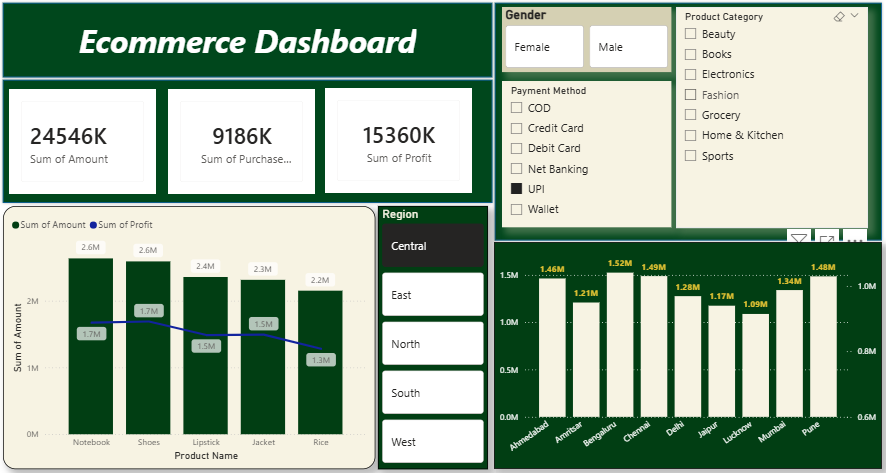

The dashboard page shown, as its layout file describes it:
{"tool":"powerbi","page":{"name":"Page 1","canvas":[1280,720],"ordinal":0},"visuals":[{"type":"shape","box":[10.3,2.1,707.2,114.4],"z":0},{"type":"shape","box":[712.4,1,560.8,347.4],"z":1000},{"type":"shape","box":[10,111.3,707.3,184],"z":2000},{"type":"slicer","fields":{"Values":["Ecommerce Sales Data.Payment Method"]},"box":[726.8,116.5,242.3,209.3],"z":3000},{"type":"cardVisual","fields":{"Data":["Sum(Ecommerce Sales Data.Amount)"]},"box":[22.9,128.6,210,150],"z":4000},{"type":"advancedSlicerVisual","fields":{"Values":["Ecommerce Sales Data.Gender"]},"box":[726.8,11.3,242.3,92.8],"z":5000},{"type":"slicer","fields":{"Values":["Ecommerce Sales Data.Product Category"]},"box":[975.7,11.4,274.3,315.7],"z":6000},{"type":"cardVisual","fields":{"Data":["Sum(Ecommerce Sales Data.Purchase Cost)"]},"box":[250,128.6,210,150],"z":7000},{"type":"cardVisual","fields":{"Data":["Sum(Ecommerce Sales Data.Profit)"]},"box":[474.3,127.1,210,150],"z":8000},{"type":"lineClusteredColumnComboChart","fields":{"Category":["Ecommerce Sales Data.Product Name"],"Y":["Sum(Ecommerce Sales Data.Amount)"],"Y2":["Sum(Ecommerce Sales Data.Profit)"]},"box":[13.6,295.6,532,376.4],"z":9000},{"type":"advancedSlicerVisual","fields":{"Values":["Ecommerce Sales Data.Region"]},"box":[549.6,295.9,157.4,376],"z":10000},{"type":"lineClusteredColumnComboChart","fields":{"Y":["Sum(Ecommerce Sales Data.Amount)"],"Y2":["Sum(Ecommerce Sales Data.Profit)"],"Category":["Ecommerce Sales Data.Payment Method","Ecommerce Sales Data.City"]},"box":[715.5,347.2,553.8,323.8],"z":11000}]}

Visuals, with their boxes in screenshot pixels (x1, y1, x2, y2):
shape: [left=18, top=1, right=493, bottom=78]
shape: [left=490, top=1, right=867, bottom=234]
shape: [left=18, top=75, right=493, bottom=198]
slicer - Ecommerce Sales Data.Payment Method: [left=500, top=78, right=662, bottom=219]
cardVisual - Sum(Ecommerce Sales Data.Amount): [left=27, top=86, right=168, bottom=187]
advancedSlicerVisual - Ecommerce Sales Data.Gender: [left=500, top=8, right=662, bottom=70]
slicer - Ecommerce Sales Data.Product Category: [left=667, top=8, right=851, bottom=220]
cardVisual - Sum(Ecommerce Sales Data.Purchase Cost): [left=179, top=86, right=321, bottom=187]
cardVisual - Sum(Ecommerce Sales Data.Profit): [left=330, top=85, right=471, bottom=186]
lineClusteredColumnComboChart - Ecommerce Sales Data.Product Name x Sum(Ecommerce Sales Data.Amount): [left=21, top=199, right=378, bottom=451]
advancedSlicerVisual - Ecommerce Sales Data.Region: [left=381, top=199, right=486, bottom=451]
lineClusteredColumnComboChart - Sum(Ecommerce Sales Data.Amount) x Sum(Ecommerce Sales Data.Profit): [left=492, top=233, right=864, bottom=451]
